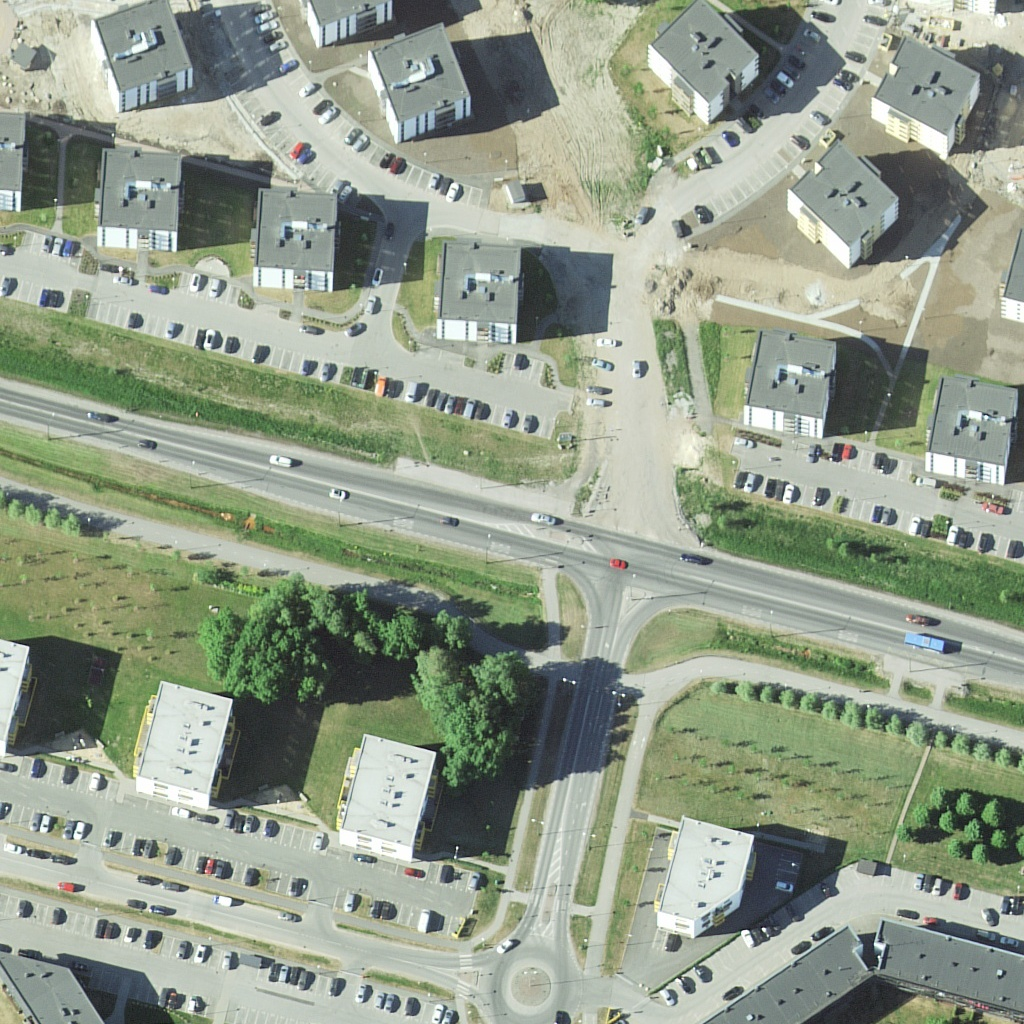building: (700, 922, 870, 1024), (778, 142, 911, 272), (645, 1, 763, 132), (875, 912, 1024, 1015), (329, 733, 437, 871), (871, 39, 981, 169), (132, 676, 234, 813), (91, 1, 207, 111), (358, 25, 476, 131), (737, 325, 838, 442), (920, 370, 1017, 491), (441, 231, 531, 351), (249, 179, 340, 297), (662, 813, 747, 932), (95, 139, 182, 253), (3, 942, 98, 1024)
